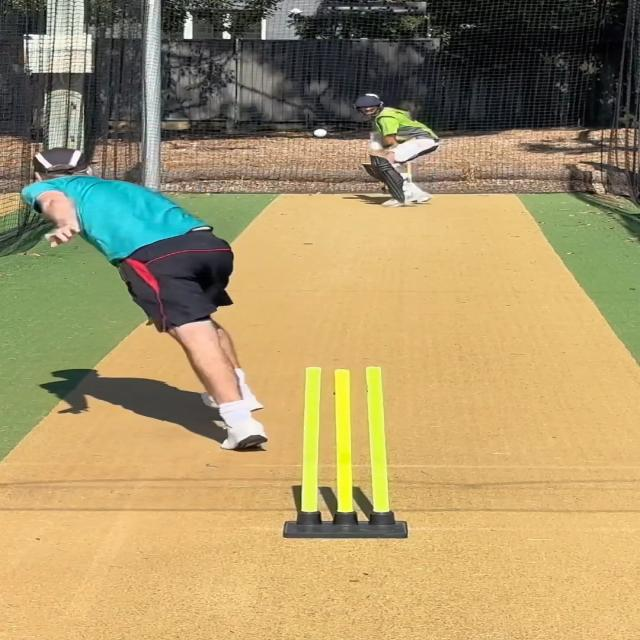Cricket ball: (312, 128, 329, 138)
